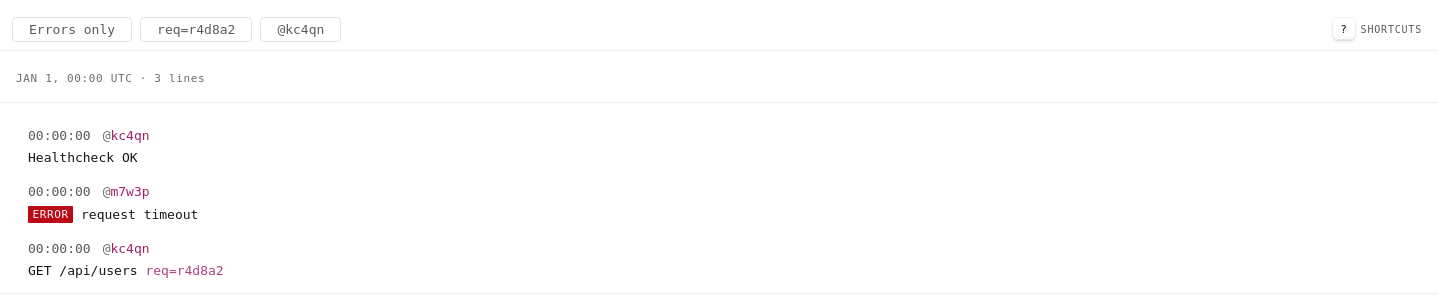
LogExplorer › filters to ERROR only when the Errors chip is pressed
The image size is (1438, 295).
Step 1. Click the button "Errors only" → (72, 29), box [12,16,132,42]
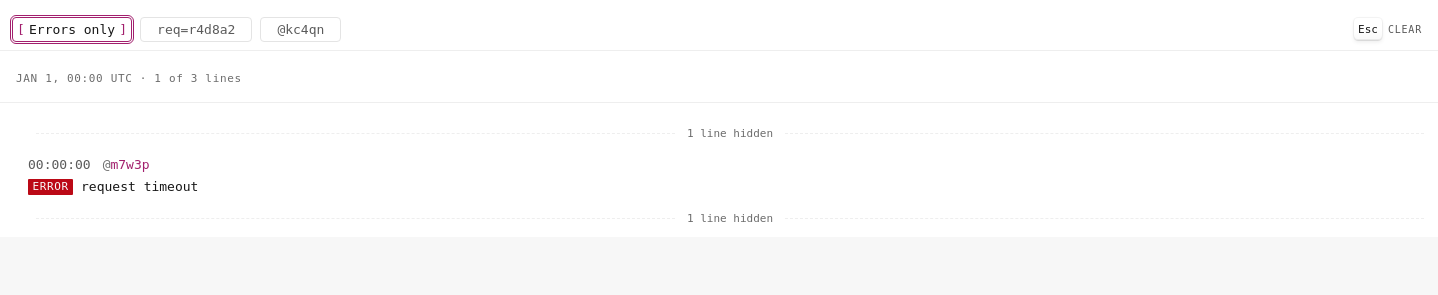
Expected: the text "request timeout" is shown, [81,179,198,194]
Expected: the option "Healthcheck OK" is gone
Expected: the option "GET /api/users" is gone
